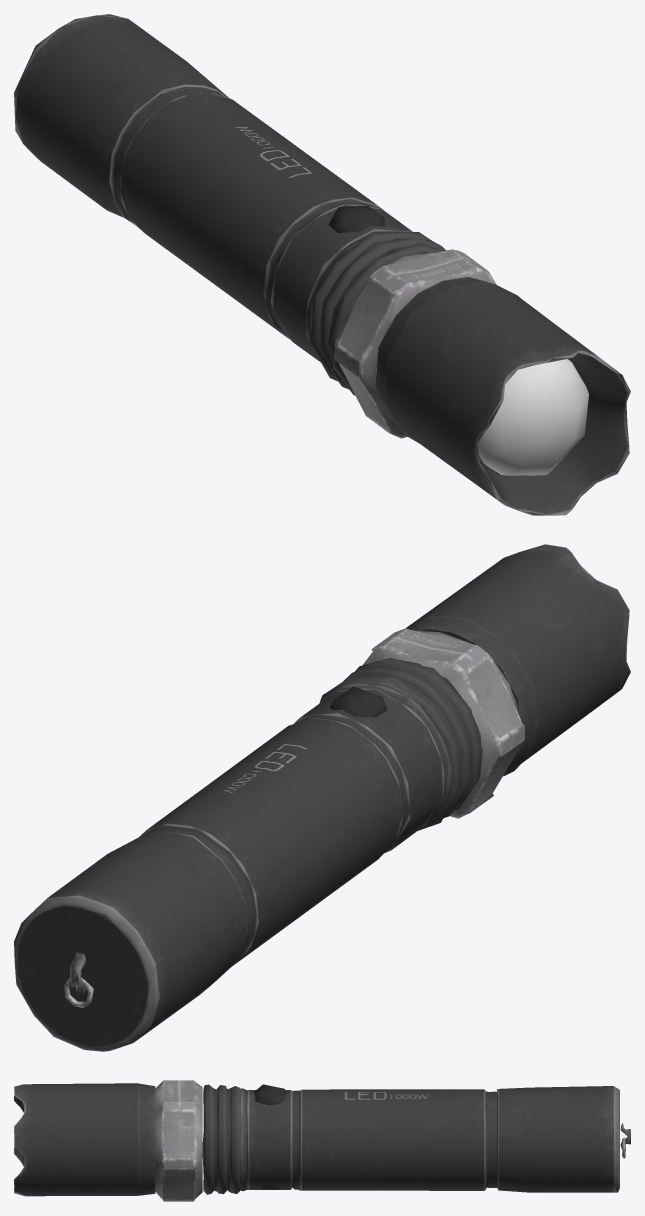
3 views of the same model, one above another, from view 1: azimuth 30°, elevation 25°; view 2: azimuth 150°, elevation 25°; view 3: azimuth 270°, elevation 25° (orthographic). The views are drawn at different scales.
Visible parts, largest first — view 1: scene; view 2: scene; view 3: scene.
Part boxes in pixels (left/top/right/bottom): scene: left=14, top=14, right=630, bottom=515; scene: left=14, top=544, right=630, bottom=1051; scene: left=14, top=1080, right=630, bottom=1201.
Bounding box in the file's own units: 0.3952 × 0.3686 × 2.
1 material, 1 textured.
